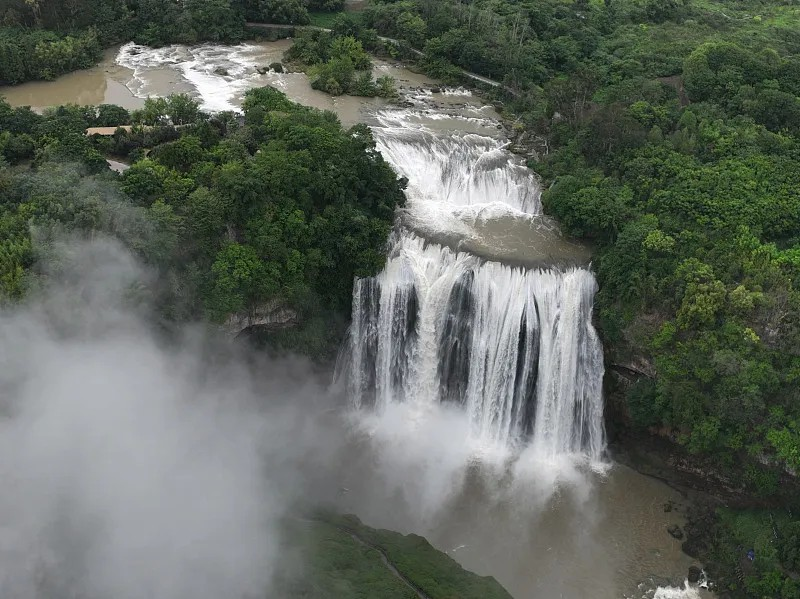Huangguoshu: (342, 143, 603, 462)
